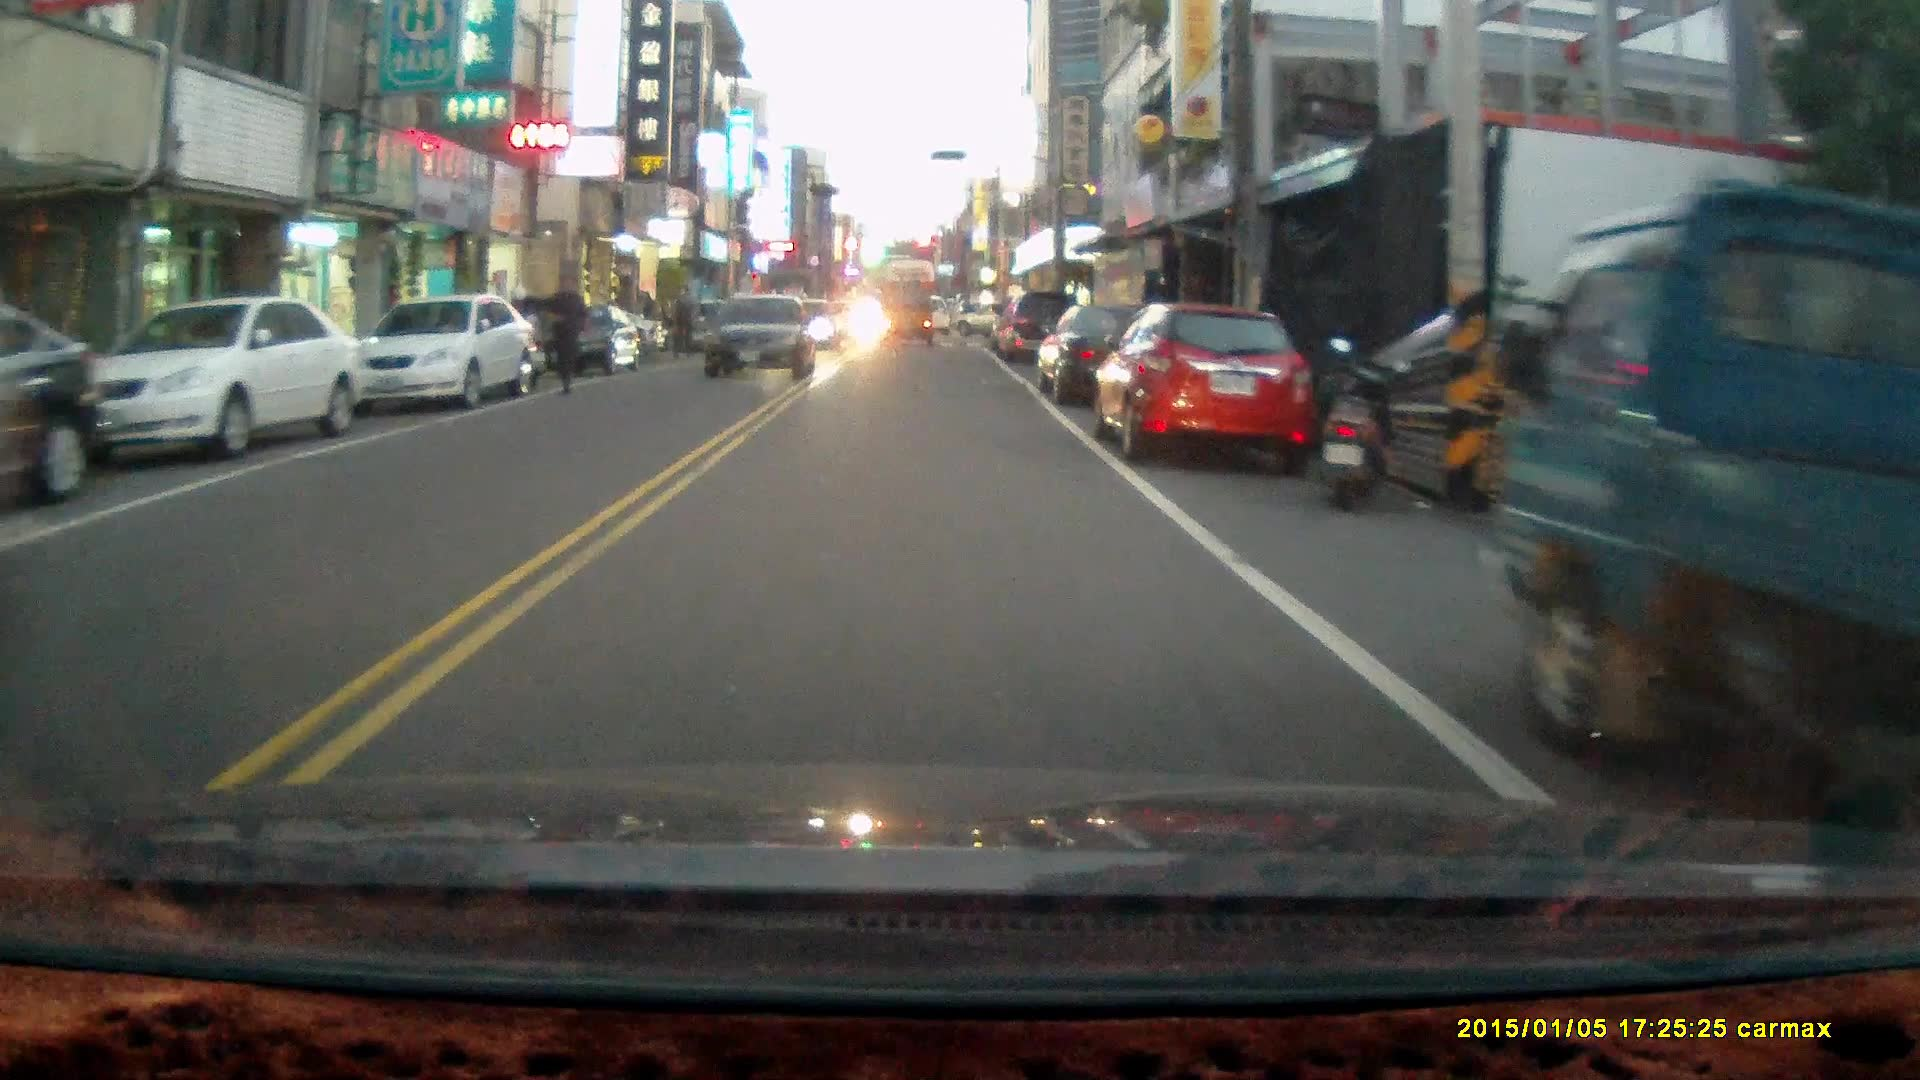pedestrian: (541, 270, 587, 393), (669, 288, 695, 356)
vehicle: (1491, 188, 1920, 856), (71, 297, 374, 454), (1095, 304, 1316, 474), (352, 293, 537, 411), (1032, 297, 1211, 406), (701, 288, 819, 381), (991, 286, 1090, 366), (544, 300, 638, 377), (875, 279, 937, 347)
